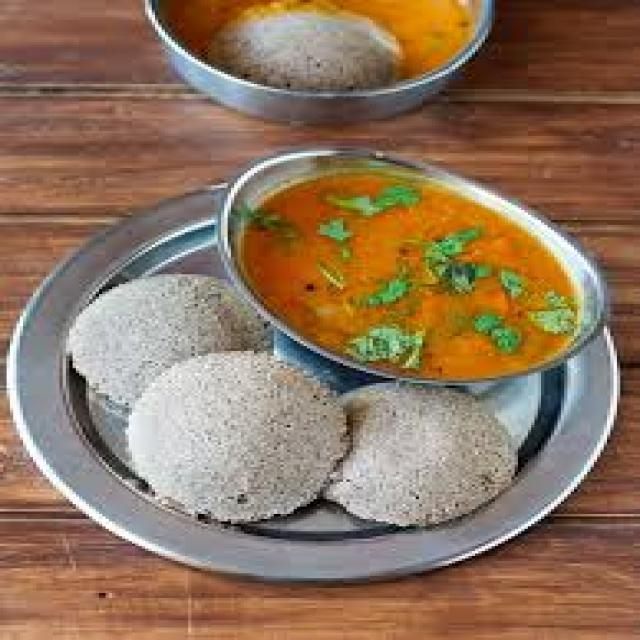Wet Waste: (122, 348, 353, 522), (56, 269, 274, 418), (316, 378, 524, 519)
